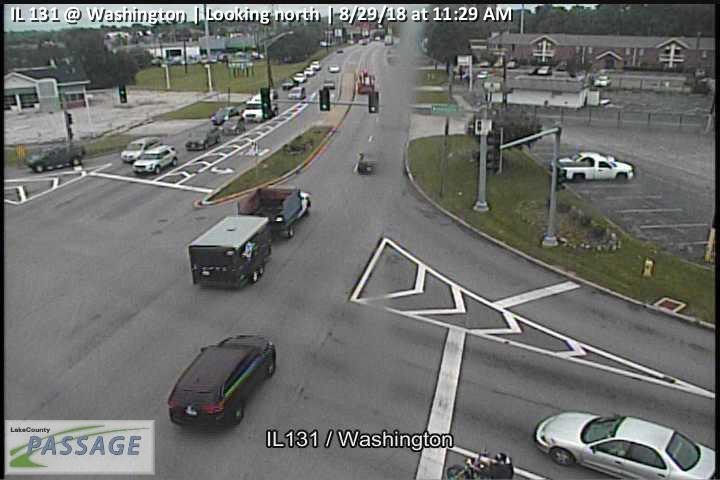SUV: (166, 333, 276, 428), (26, 144, 85, 172), (132, 144, 178, 176)
Sedan: (534, 410, 718, 480), (120, 137, 163, 162), (183, 124, 221, 151), (241, 101, 278, 125), (221, 114, 246, 136), (211, 105, 239, 123), (287, 86, 306, 99)
Truck: (188, 185, 311, 290)
